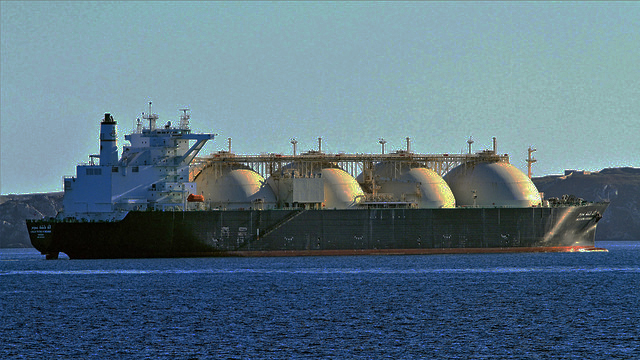LNG_ship: (26, 98, 618, 257)
